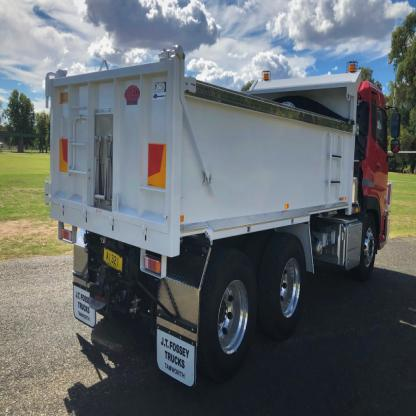dump_truck: (47, 30, 399, 386)
